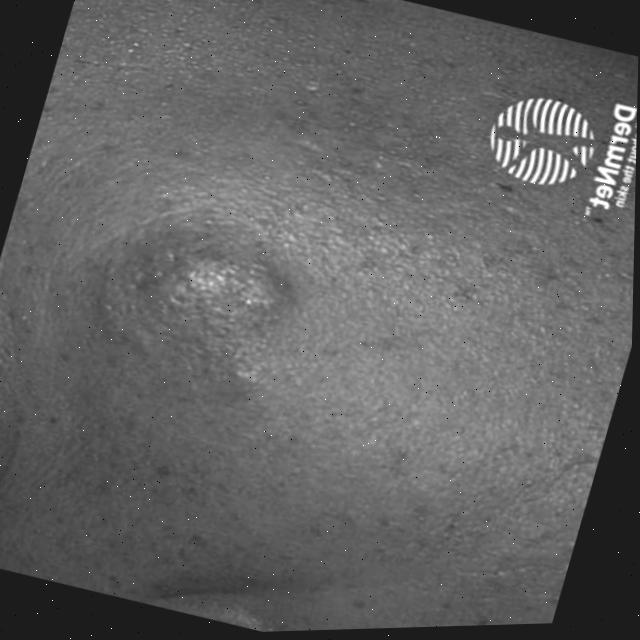lupus-detected: (48, 143, 394, 493)
